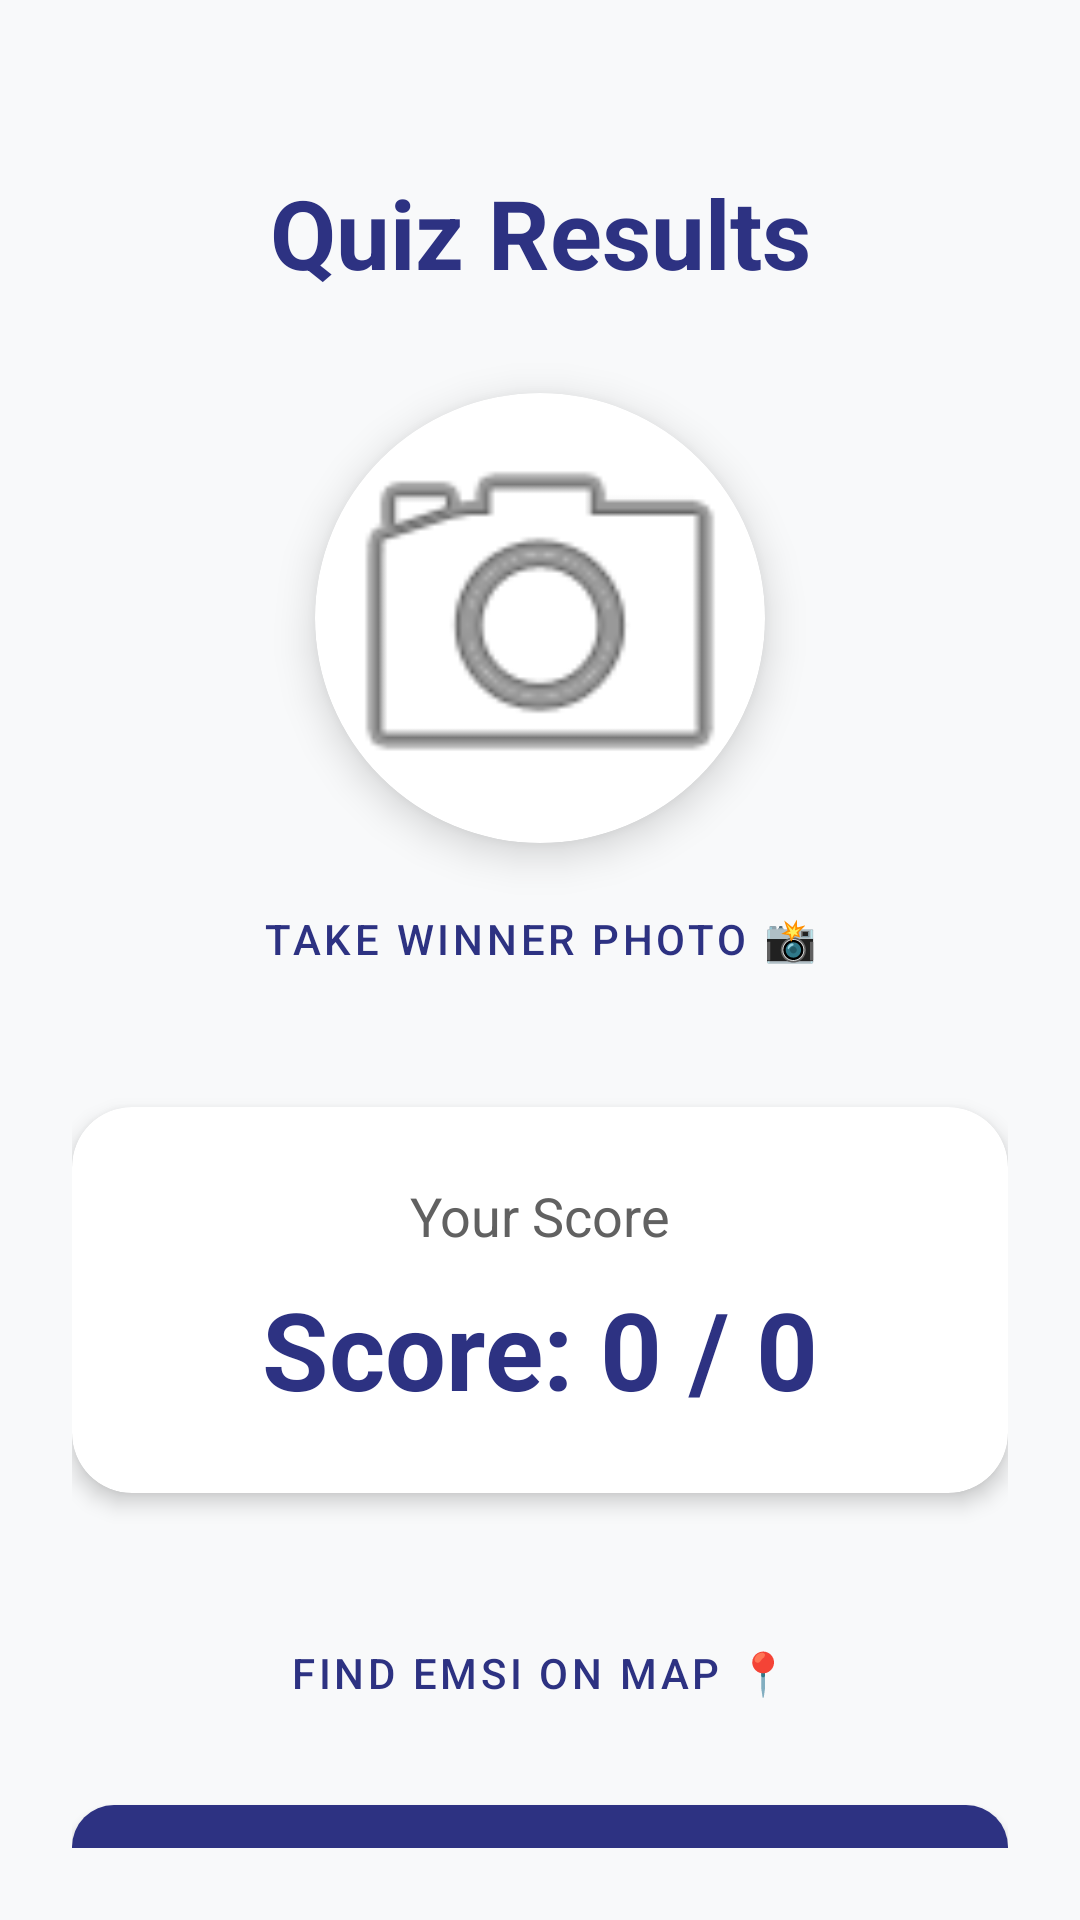

Where icons sit on this 1080×1920 app screen, as box=[x1, y1, x2, y2]:
camera: box=[366, 472, 714, 750]
